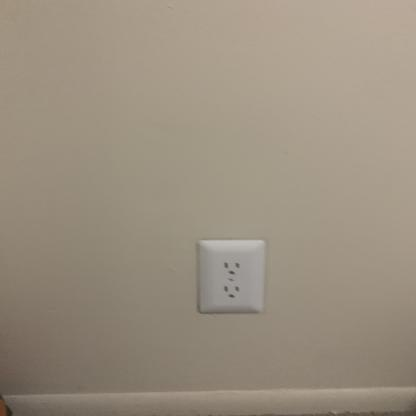OUTLET: (198, 240, 264, 314)
